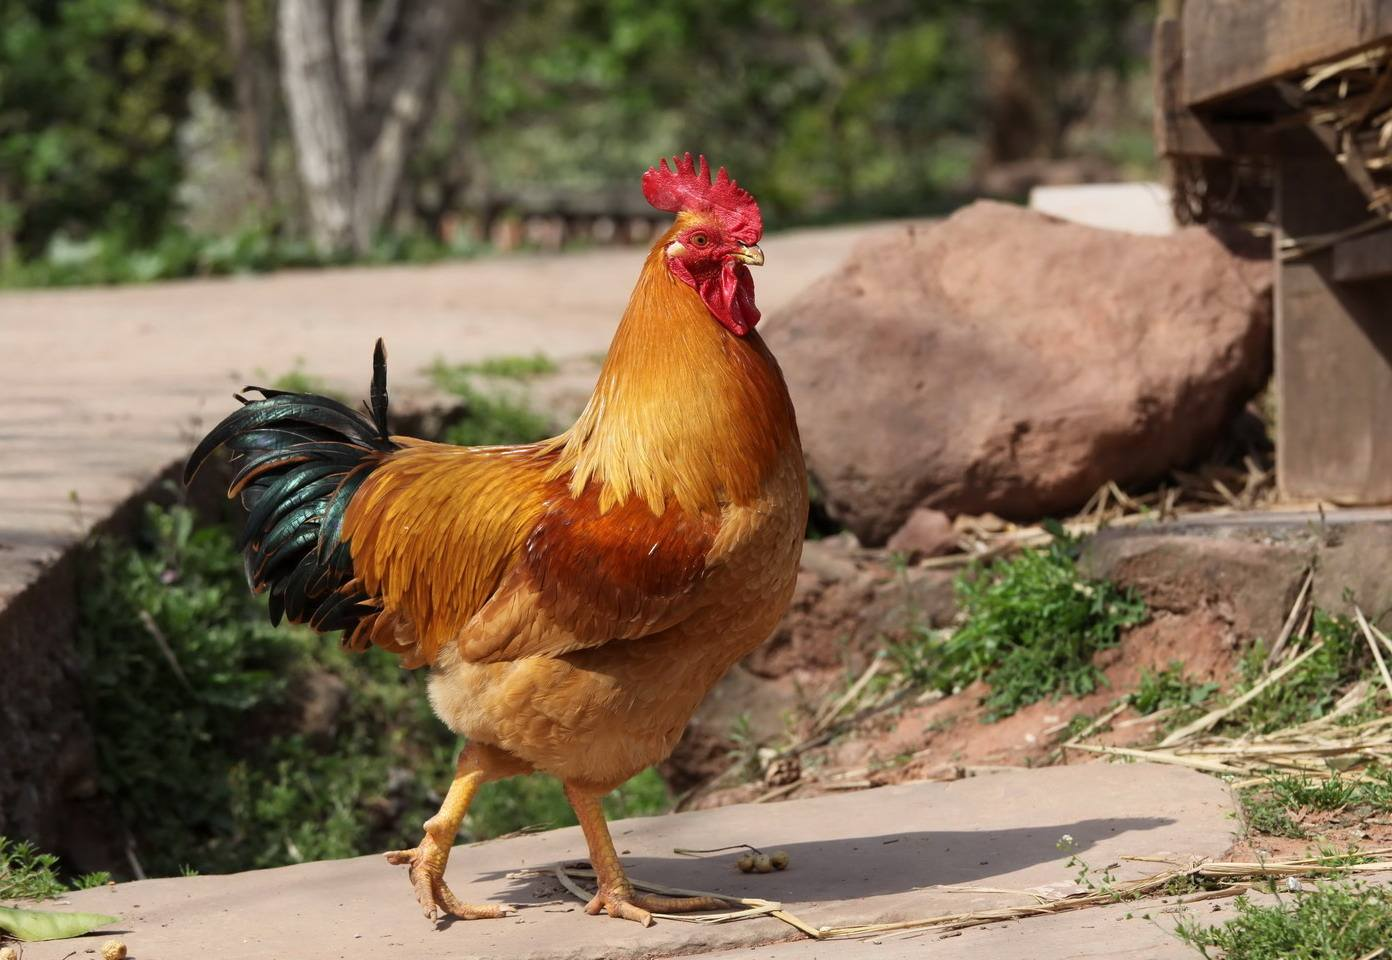chicken: (191, 130, 816, 930)
